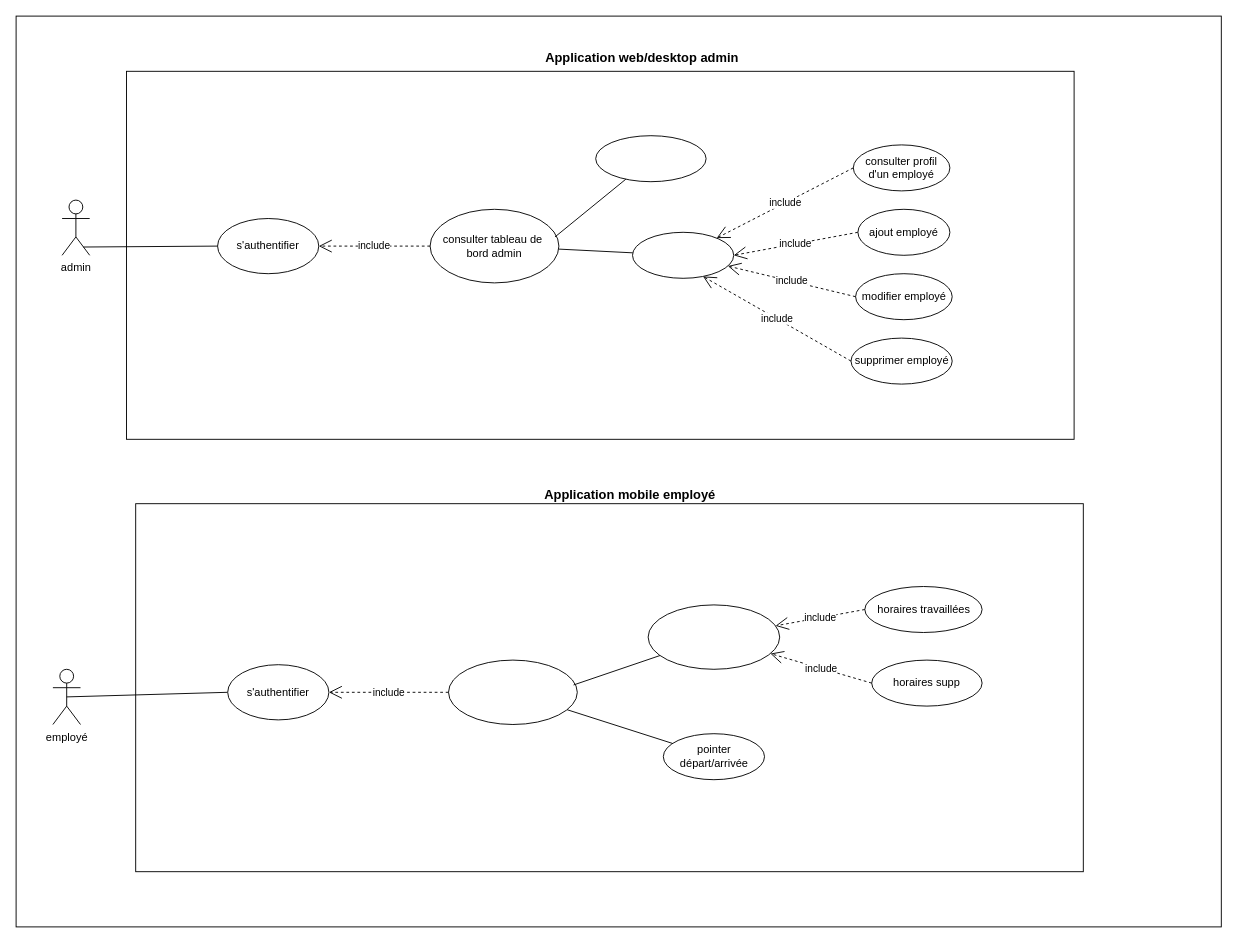
This 1237x943 diagram has some shape labels left out. Here are the shapes that lost their labels. From the top down, the box of each, then its label:
(595, 135, 706, 182): rapport des heures travaillées
(632, 231, 734, 278): gestion employés
(647, 604, 780, 669): consulter planing
(448, 659, 577, 724): consulter tableau de bord personnel
